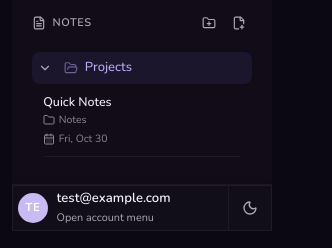
Test: Sidebar › edits a folder name inline when clicking the selected folder
Step 1. Click the button "Projects" → [154, 68], box left=57, top=53, right=251, bottom=83
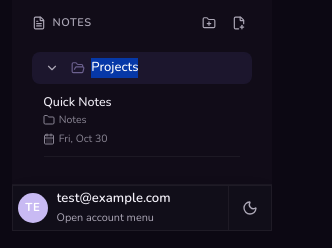
Now the field named "Rename folder Projects" is shown
Step 2. Replace the text in the field named "Rename folder Projects" with "Work" → [167, 68], box left=91, top=58, right=244, bottom=78
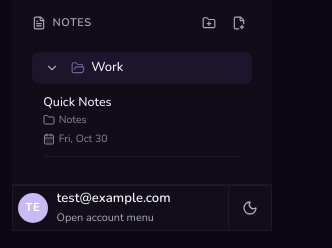
Step 3. Leave the field named "Rename folder Projects", box left=91, top=58, right=244, bottom=78
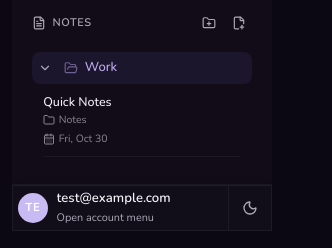
Now the text "Work" is shown, box left=85, top=58, right=117, bottom=78
